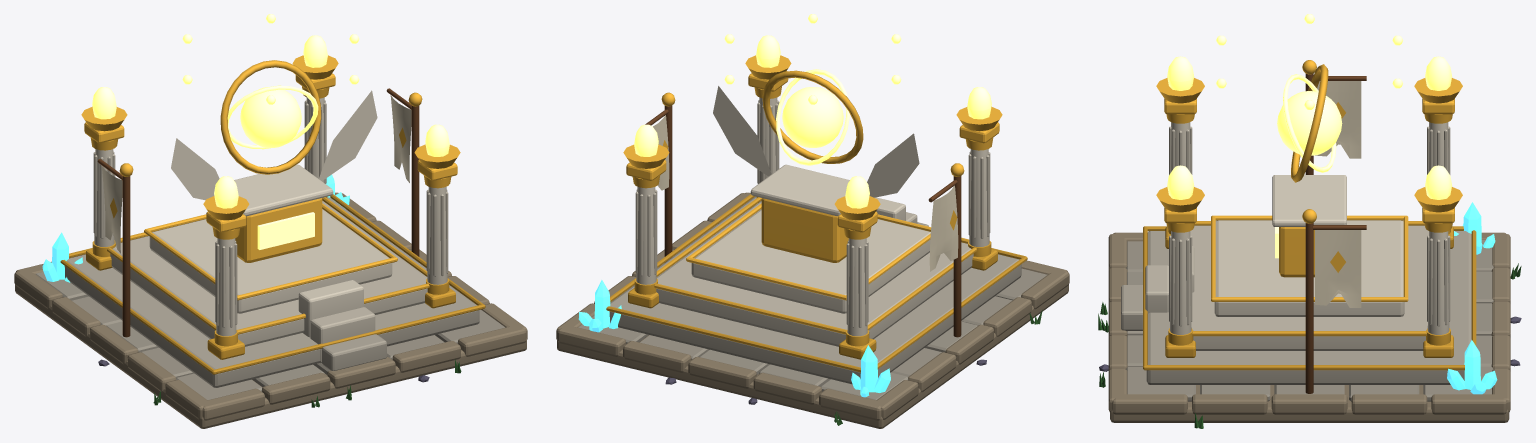
File: divine_altar.glb
3 renders of one model, left to right at view 1: azimuth 30°, elevation 25°; view 2: azimuth 150°, elevation 25°; view 3: azimuth 270°, elevation 25°, orthographic. The views are drawn at different scales.
Parts seen in each view (by area): view 1: t0_marble, t0_gold, t0_stone_warm, t1_wood_dark, orb_t0_bob10_glow_gold, halo_t0_spinY45_gold, t1_cloth_cream, t0_glow_gold, t3_crystal, halo_t0_spinY45_glow_gold, flame22_t0_bob3_glow_gold, flame00_t0_bob3_glow_gold (+4 smaller); view 2: t0_marble, t0_gold, t0_stone_warm, orb_t0_bob10_glow_gold, t1_wood_dark, t1_cloth_cream, t3_crystal, halo_t0_spinY45_gold, halo_t0_spinY45_glow_gold, flame20_t0_bob3_glow_gold, flame02_t0_bob3_glow_gold, flame00_t0_bob3_glow_gold (+2 smaller); view 3: t0_marble, t0_stone_warm, t0_gold, t1_cloth_cream, orb_t0_bob10_glow_gold, t1_wood_dark, t3_crystal, halo_t0_spinY45_gold, halo_t0_spinY45_glow_gold, flame20_t0_bob3_glow_gold, flame00_t0_bob3_glow_gold, flame22_t0_bob3_glow_gold (+4 smaller).
Part boxes in pixels (bbox=[...]): t0_marble: bbox=[36, 90, 504, 399]; t0_gold: bbox=[60, 55, 485, 374]; t0_stone_warm: bbox=[14, 192, 527, 428]; t1_wood_dark: bbox=[97, 88, 419, 337]; orb_t0_bob10_glow_gold: bbox=[240, 87, 301, 147]; halo_t0_spinY45_gold: bbox=[220, 60, 321, 174]; t1_cloth_cream: bbox=[101, 95, 411, 253]; t0_glow_gold: bbox=[257, 212, 314, 249]; t3_crystal: bbox=[42, 174, 349, 282]; halo_t0_spinY45_glow_gold: bbox=[227, 85, 318, 149]; flame22_t0_bob3_glow_gold: bbox=[303, 35, 327, 67]; flame00_t0_bob3_glow_gold: bbox=[214, 176, 238, 208]; t0_marble: bbox=[578, 86, 1047, 399]; t0_gold: bbox=[606, 55, 1027, 372]; t0_stone_warm: bbox=[556, 192, 1069, 428]; orb_t0_bob10_glow_gold: bbox=[782, 87, 843, 147]; t1_wood_dark: bbox=[645, 105, 961, 337]; t1_cloth_cream: bbox=[653, 115, 958, 271]; t3_crystal: bbox=[578, 280, 890, 397]; halo_t0_spinY45_gold: bbox=[762, 70, 863, 163]; halo_t0_spinY45_glow_gold: bbox=[776, 69, 849, 165]; flame20_t0_bob3_glow_gold: bbox=[756, 35, 780, 67]; flame02_t0_bob3_glow_gold: bbox=[845, 176, 869, 208]; flame00_t0_bob3_glow_gold: bbox=[967, 87, 991, 119]; t0_marble: bbox=[1121, 122, 1493, 401]; t0_stone_warm: bbox=[1108, 232, 1510, 422]; t0_gold: bbox=[1143, 78, 1476, 370]; t1_cloth_cream: bbox=[1315, 81, 1361, 307]; orb_t0_bob10_glow_gold: bbox=[1277, 91, 1342, 155]; t1_wood_dark: bbox=[1305, 73, 1366, 393]; t3_crystal: bbox=[1447, 202, 1497, 394]; halo_t0_spinY45_gold: bbox=[1291, 64, 1328, 182]; halo_t0_spinY45_glow_gold: bbox=[1283, 74, 1336, 172]; flame20_t0_bob3_glow_gold: bbox=[1167, 165, 1194, 199]; flame00_t0_bob3_glow_gold: bbox=[1167, 56, 1194, 90]; flame22_t0_bob3_glow_gold: bbox=[1425, 165, 1452, 199].
Bounding box in the file's own units: 3.12 × 2.31 × 3.12.
